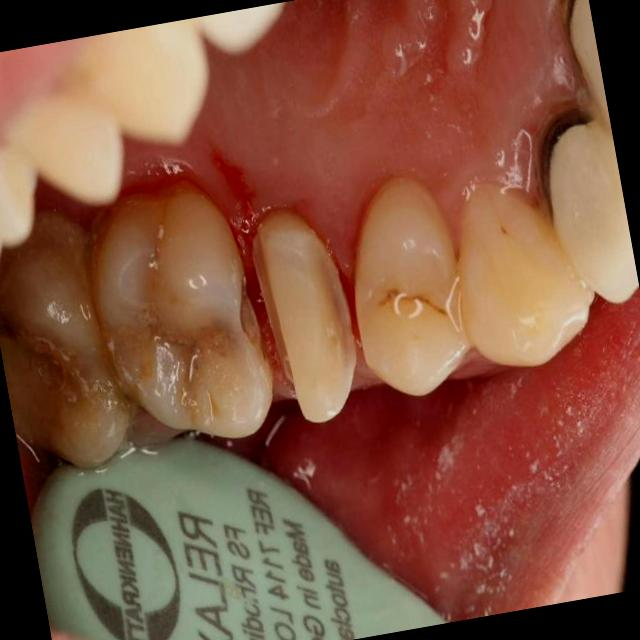caries: (86, 172, 286, 458), (0, 206, 143, 477)
